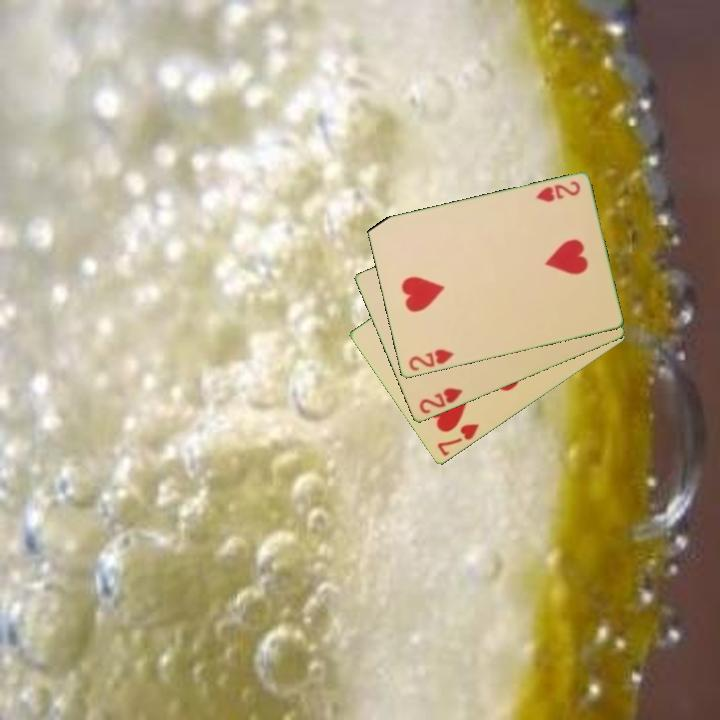2h: (415, 384, 465, 417), (405, 346, 456, 374), (532, 178, 583, 205)
7h: (433, 420, 482, 459)
